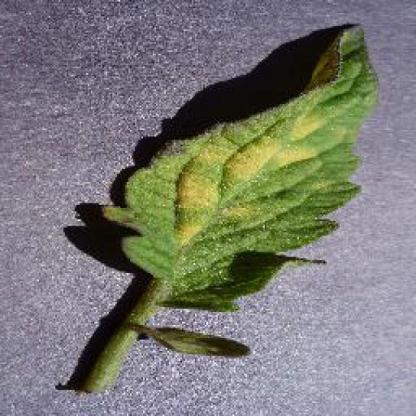Tomato_Leaf_Mold: (101, 24, 381, 299)
